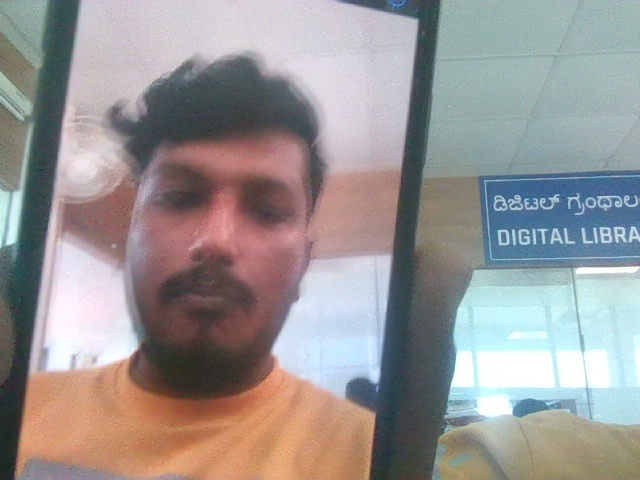fake: (93, 33, 342, 386)
